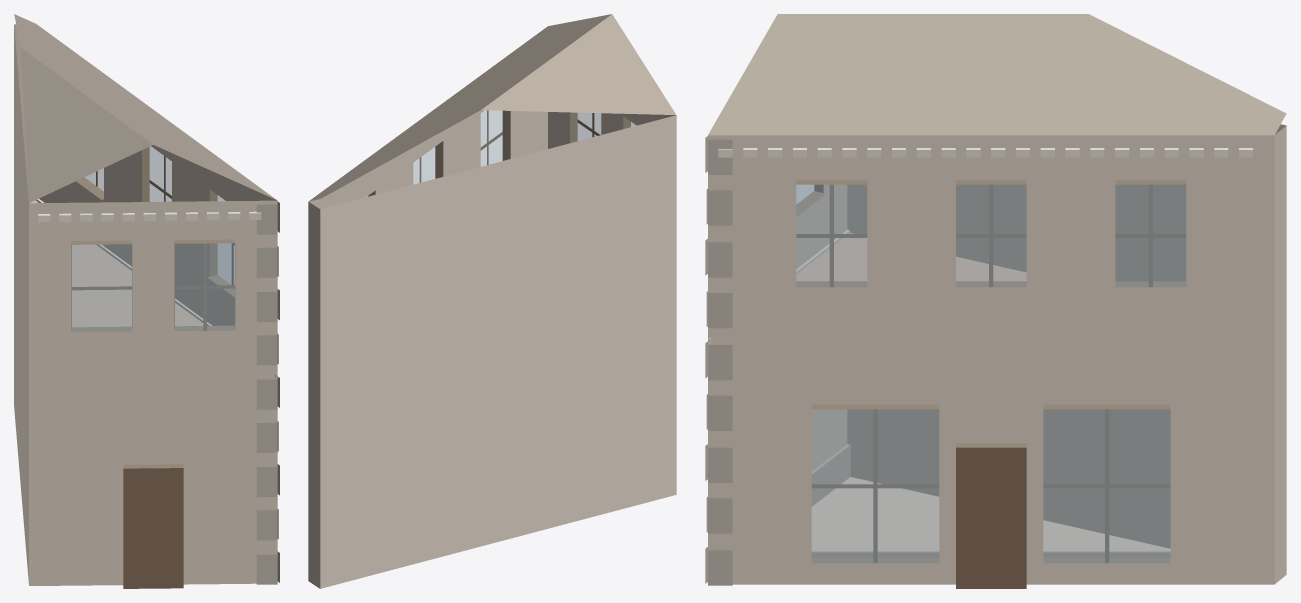
The picture shows the model from 3 angles, left to right: view 1: azimuth 30°, elevation 25°; view 2: azimuth 150°, elevation 25°; view 3: azimuth 270°, elevation 25°; orthographic projection. The views are drawn at different scales.
Parts seen in each view (by area): view 1: E-16; view 2: E-16; view 3: E-16.
Boxes of the visible parts, x1,y1,x2,y2 form: E-16: (14, 14, 279, 588); E-16: (308, 14, 676, 588); E-16: (705, 14, 1286, 588).
Bounding box in the file's own units: 3.77 × 8.04 × 8.21.
